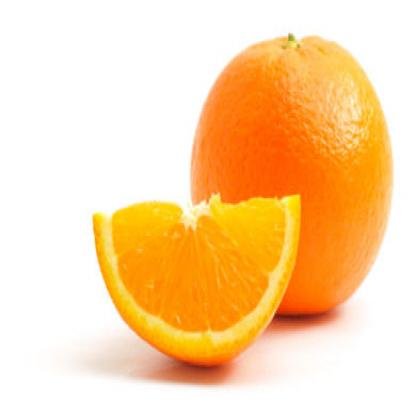orange: (185, 31, 387, 324)
